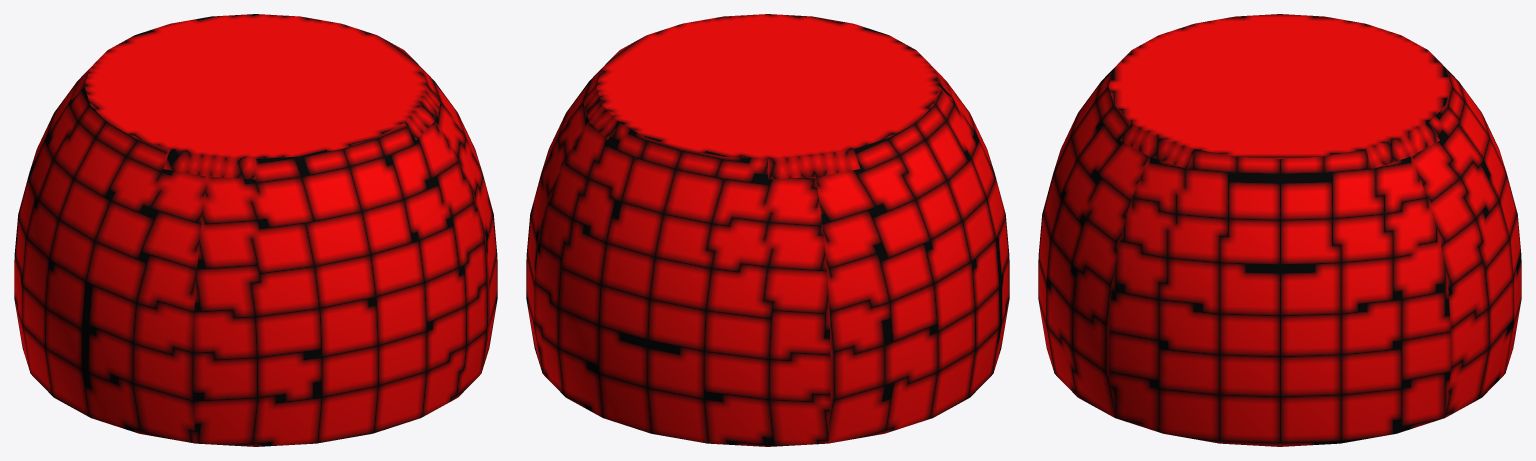
Rendered from Hamal_Habitation_1_Interior.obj.
3 views of the same model, side by side, from view 1: azimuth 30°, elevation 25°; view 2: azimuth 150°, elevation 25°; view 3: azimuth 270°, elevation 25° (orthographic).
Visible parts, largest first — view 1: Hamal_Habitation_1_Interior; view 2: Hamal_Habitation_1_Interior; view 3: Hamal_Habitation_1_Interior.
Boxes of the visible parts, box(x1,y1,x2,y2) form: Hamal_Habitation_1_Interior: box(14, 14, 497, 446); Hamal_Habitation_1_Interior: box(526, 14, 1009, 446); Hamal_Habitation_1_Interior: box(1038, 14, 1521, 446).
Size of the model in its own units: 1.32 by 0.7898 by 1.32.
Materials: 1 (1 with a texture image).
